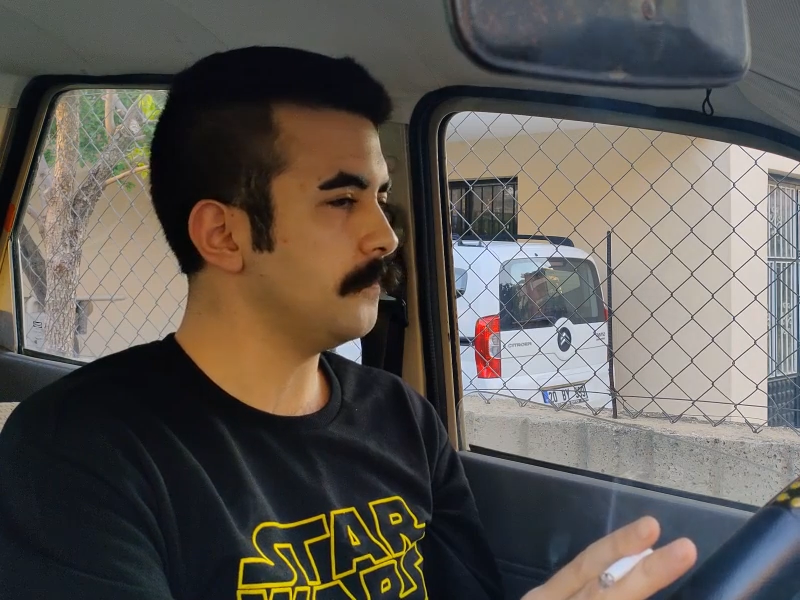sigara: (595, 544, 655, 590)
